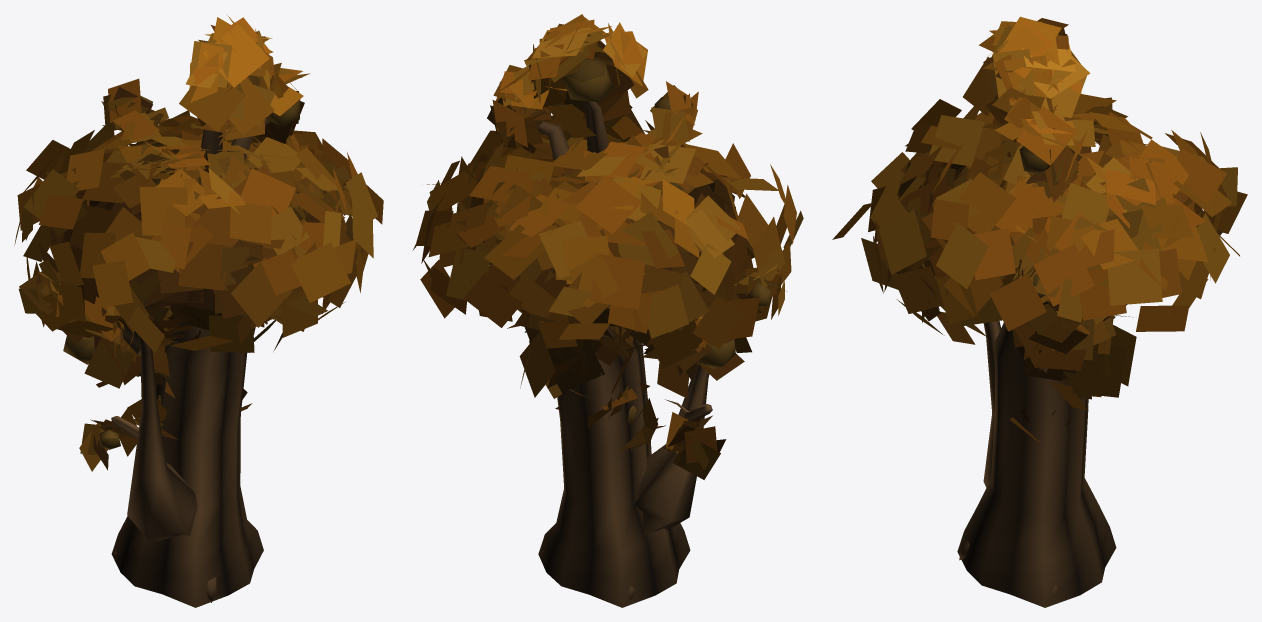
The model's file is tree-09-red.glb.
The picture shows the model from 3 angles, left to right: view 1: azimuth 30°, elevation 25°; view 2: azimuth 150°, elevation 25°; view 3: azimuth 270°, elevation 25°; orthographic projection. The views are drawn at different scales.
Visible parts, largest first — view 1: tree-09-red; view 2: tree-09-red; view 3: tree-09-red.
Part boxes in pixels (x1=…): tree-09-red: x1=14, y1=15, x2=383, y2=607; tree-09-red: x1=413, y1=14, x2=803, y2=607; tree-09-red: x1=832, y1=16, x2=1247, y2=607.
Bounding box in the file's own units: 5.4 × 7.96 × 5.3.
